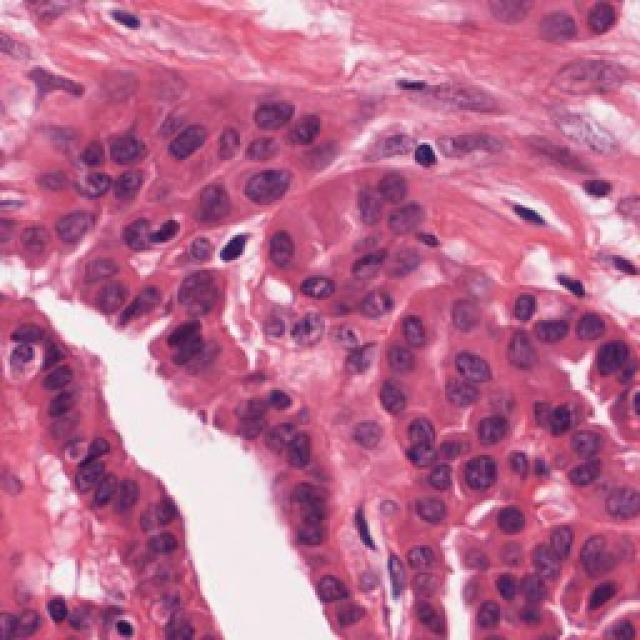abnormal: (231, 224, 321, 298), (149, 100, 229, 181), (74, 110, 161, 184), (303, 556, 381, 628), (376, 396, 452, 466), (182, 166, 254, 239), (232, 154, 308, 222), (548, 293, 617, 366), (58, 426, 114, 514), (6, 303, 60, 393), (245, 78, 303, 156), (434, 279, 498, 349), (590, 450, 640, 538), (257, 408, 315, 483), (43, 193, 98, 269), (383, 543, 457, 599), (349, 236, 411, 300), (565, 530, 640, 582), (455, 451, 515, 511), (97, 205, 160, 261), (88, 269, 137, 337), (279, 102, 328, 168), (443, 346, 500, 399), (388, 306, 439, 362), (289, 260, 337, 314), (375, 368, 417, 428), (395, 489, 447, 536), (293, 256, 330, 316)
